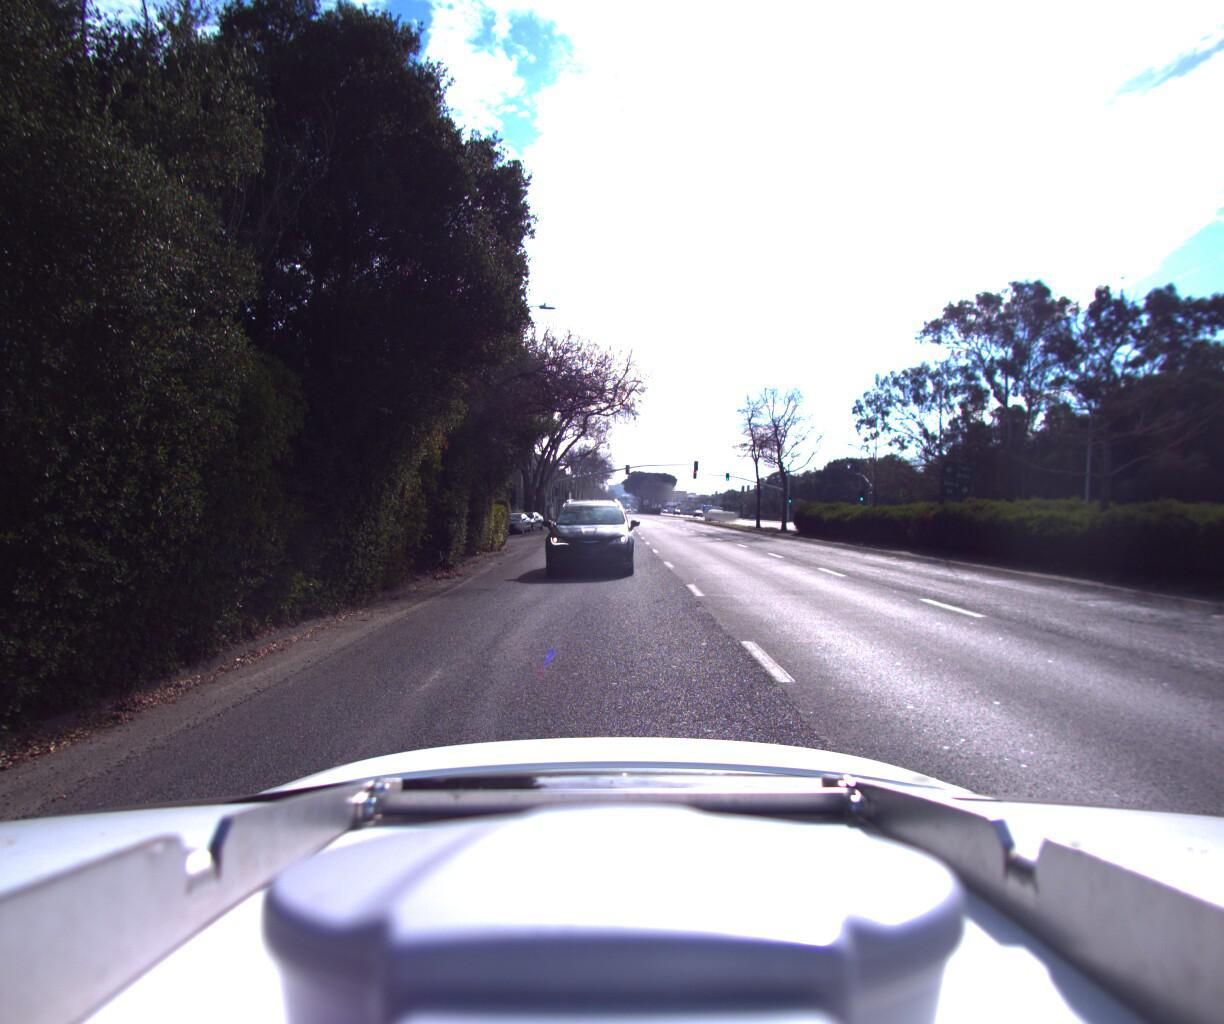car: (535, 493, 631, 579)
